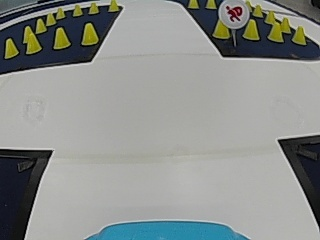thief: (218, 0, 250, 28)
